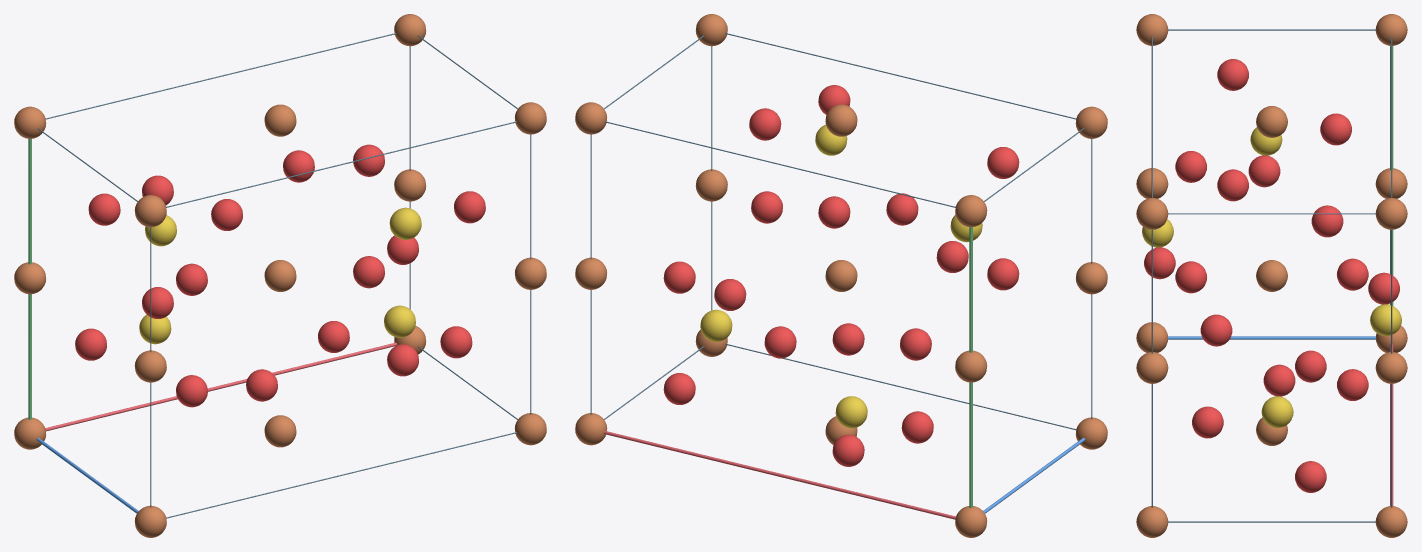
File: chat-ferrous-sulfate-beta.glb
3 views of the same model, side by side, from view 1: azimuth 30°, elevation 25°; view 2: azimuth 150°, elevation 25°; view 3: azimuth 270°, elevation 25° (orthographic).
Visible parts, largest first — view 1: Fe · Fe · 1 (×14), Ô mạng và các trục a, b, c, O1 · O · 1 (×8), O3 · O · 1 (×4), O2 · O · 1 (×4), S · S · 1 (×4); view 2: Fe · Fe · 1 (×13), Ô mạng và các trục a, b, c, O1 · O · 1 (×8), O2 · O · 1 (×4), O3 · O · 1 (×4), S · S · 1 (×3); view 3: Fe · Fe · 1 (×15), O1 · O · 1 (×8), Ô mạng và các trục a, b, c, O3 · O · 1 (×4), O2 · O · 1 (×4), S · S · 1 (×4).
Boxes of the visible parts, bbox=[...] form: Fe · Fe · 1 (×14): bbox=[14, 14, 546, 537]; Ô mạng và các trục a, b, c: bbox=[28, 33, 531, 518]; O1 · O · 1 (×8): bbox=[142, 144, 418, 407]; O3 · O · 1 (×4): bbox=[88, 150, 472, 401]; O2 · O · 1 (×4): bbox=[75, 191, 485, 360]; S · S · 1 (×4): bbox=[139, 207, 421, 344]; Fe · Fe · 1 (×13): bbox=[575, 14, 1107, 537]; Ô mạng và các trục a, b, c: bbox=[590, 33, 1092, 519]; O1 · O · 1 (×8): bbox=[663, 85, 1019, 466]; O2 · O · 1 (×4): bbox=[749, 108, 933, 443]; O3 · O · 1 (×4): bbox=[714, 191, 968, 360]; S · S · 1 (×3): bbox=[700, 124, 867, 428]; Fe · Fe · 1 (×15): bbox=[1136, 14, 1407, 537]; O1 · O · 1 (×8): bbox=[1175, 59, 1368, 492]; Ô mạng và các trục a, b, c: bbox=[1151, 29, 1393, 522]; O3 · O · 1 (×4): bbox=[1192, 113, 1351, 438]; O2 · O · 1 (×4): bbox=[1144, 155, 1399, 396]; S · S · 1 (×4): bbox=[1142, 127, 1401, 428].
Size of the model in its own units: 9.34 by 7.44 by 5.43.
